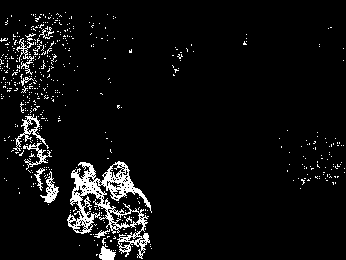person: (104, 160, 152, 257), (68, 160, 114, 260), (15, 117, 58, 207)
